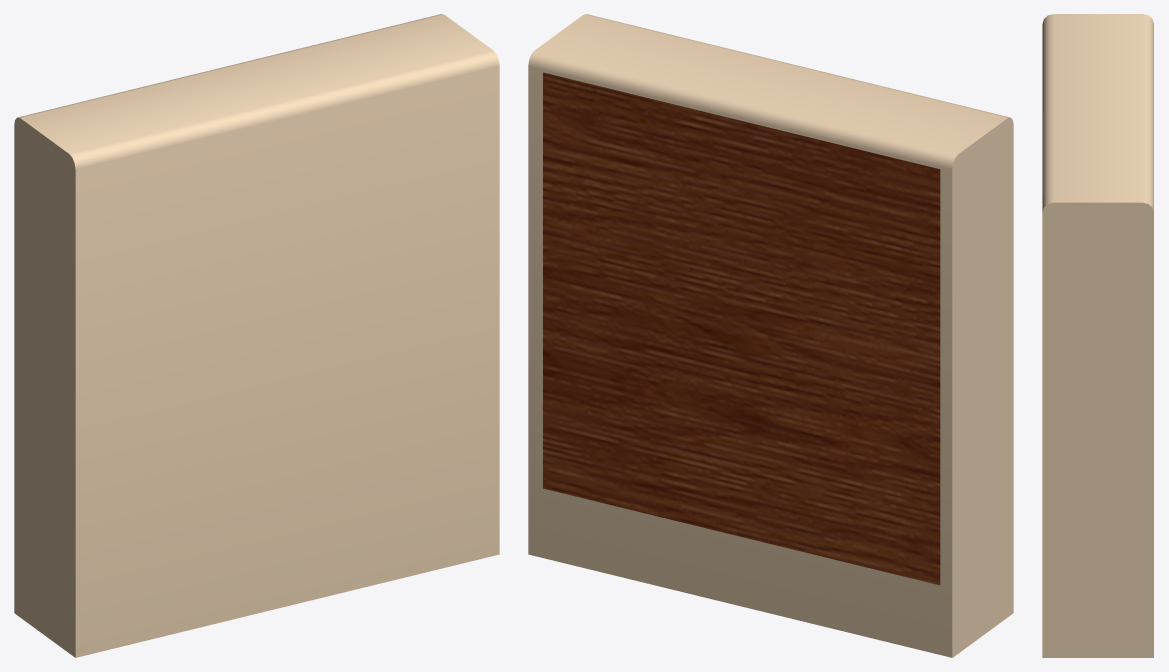
File: Wall_Straight.glb
The picture shows the model from 3 angles, left to right: view 1: azimuth 30°, elevation 25°; view 2: azimuth 150°, elevation 25°; view 3: azimuth 270°, elevation 25°; orthographic projection. The views are drawn at different scales.
Visible parts, largest first — view 1: Cube.001; view 2: Plane, Cube.001; view 3: Cube.001.
Part boxes in pixels (bbox=[...]): Cube.001: bbox=[14, 14, 499, 657]; Plane: bbox=[543, 72, 940, 585]; Cube.001: bbox=[528, 14, 1013, 657]; Cube.001: bbox=[1042, 14, 1153, 657].
Size of the model in its own units: 2 by 2.25 by 0.5022.
Materials: 2 (2 with a texture image).
